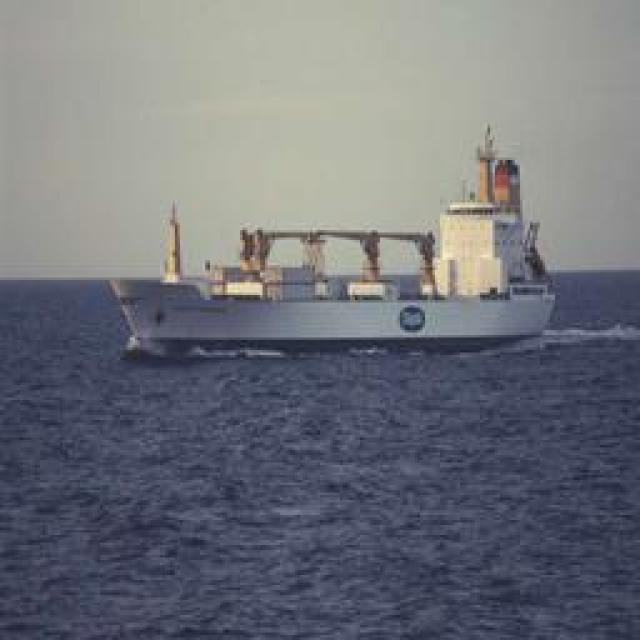CIV_Ship: (112, 188, 550, 354)
